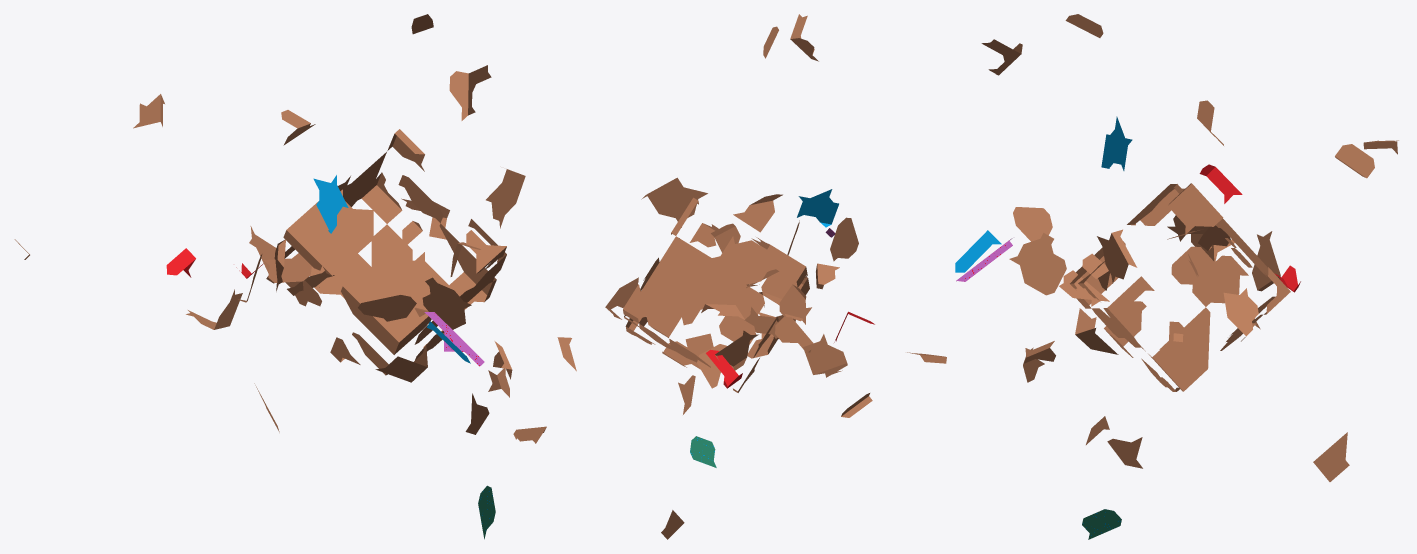
File: explode_000098.obj
3 renders of one model, left to right at view 1: azimuth 30°, elevation 25°; view 2: azimuth 150°, elevation 25°; view 3: azimuth 270°, elevation 25°, orthographic. The views are drawn at different scales.
Visible parts, largest first — view 1: Cube_Cube.001; view 2: Cube_Cube.001; view 3: Cube_Cube.001.
Part boxes in pixels (left/top/right/bottom): Cube_Cube.001: left=14, top=14, right=576, bottom=539; Cube_Cube.001: left=605, top=14, right=874, bottom=539; Cube_Cube.001: left=907, top=14, right=1398, bottom=539.
Bounding box in the file's own units: 6.08 × 7.45 × 6.75.
